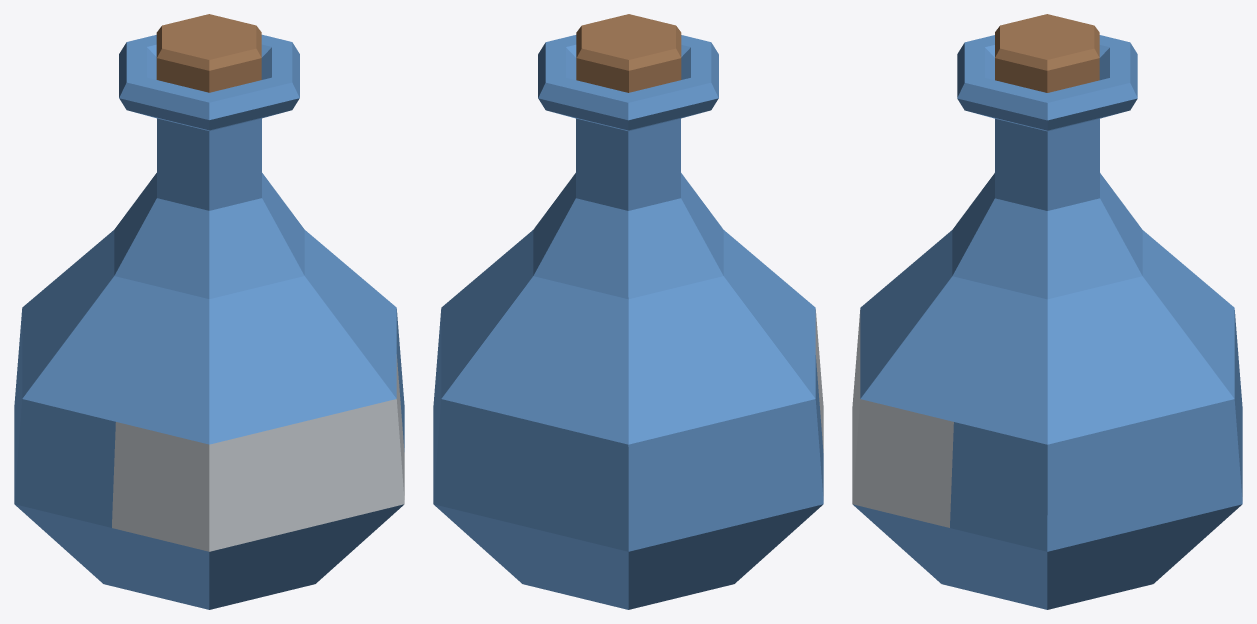
The model's file is Blue_Potion_3(Label).fbx.
The picture shows the model from 3 angles, left to right: view 1: azimuth 30°, elevation 25°; view 2: azimuth 150°, elevation 25°; view 3: azimuth 270°, elevation 25°; orthographic projection.
Parts seen in each view (by area): view 1: Blue_Potion_3(Label); view 2: Blue_Potion_3(Label); view 3: Blue_Potion_3(Label).
Boxes of the visible parts, x1=… form: Blue_Potion_3(Label): x1=14, y1=14, x2=404, y2=609; Blue_Potion_3(Label): x1=433, y1=14, x2=823, y2=609; Blue_Potion_3(Label): x1=852, y1=14, x2=1242, y2=609.
Bounding box in the file's own units: 21.88 × 27.9 × 18.95.
